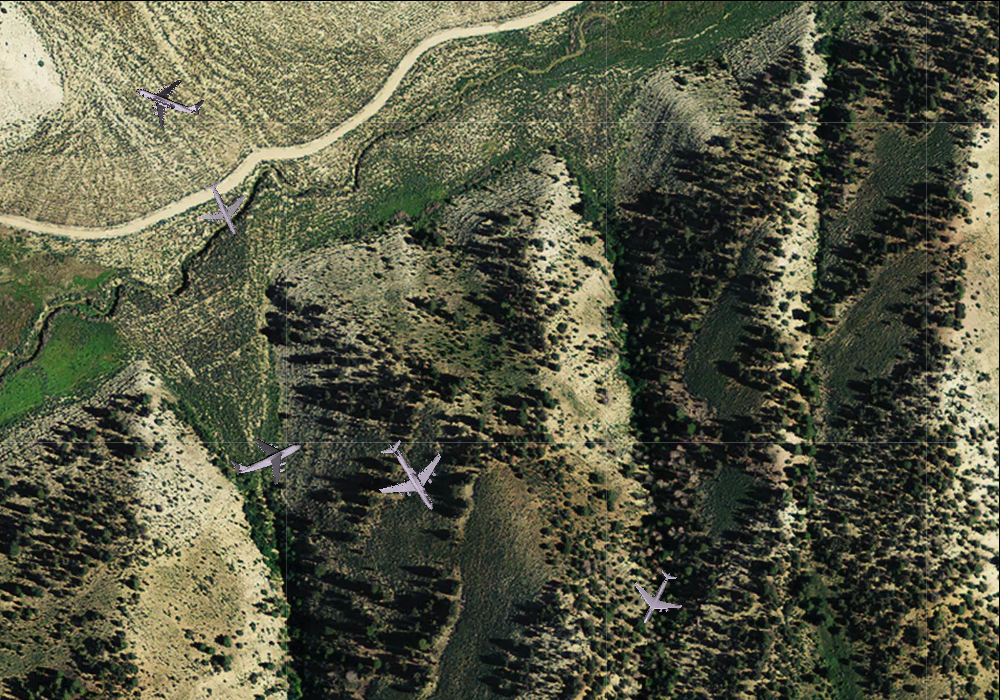plane: (359, 424, 463, 529), (220, 412, 313, 501), (125, 58, 212, 141), (186, 170, 259, 245), (621, 561, 693, 635)
